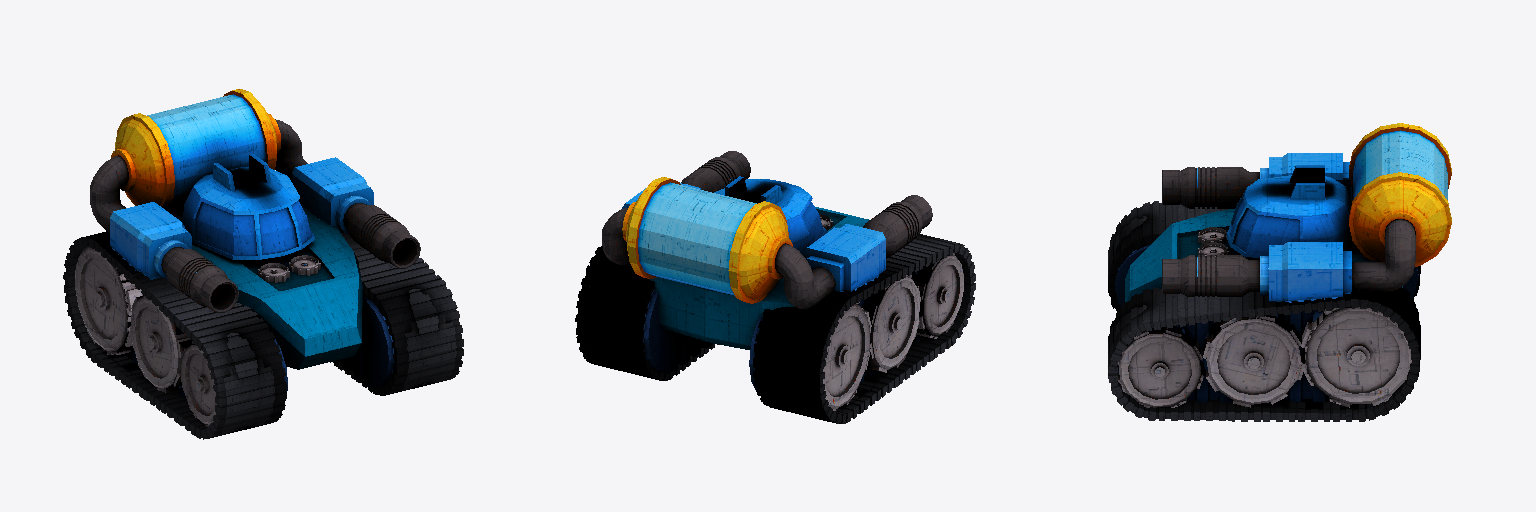
The picture shows the model from 3 angles: view 1: azimuth 30°, elevation 25°; view 2: azimuth 150°, elevation 25°; view 3: azimuth 270°, elevation 25°; orthographic projection.
Visible parts, largest first — view 1: Object001, Box042, Object004, Object003, Object002; view 2: Object001, Box042, Object003, Object004, Object002; view 3: Object001, Box042, Object004, Object003, Object002.
Part boxes in pixels (x1,y1,x2,y2): Object001: (90,89,420,402); Box042: (63,231,463,439); Object004: (75,247,142,354); Object003: (130,296,192,392); Object002: (180,341,216,426); Object001: (602,151,932,390); Box042: (575,234,975,423); Object003: (862,275,920,372); Object004: (823,302,871,410); Object002: (913,253,963,338); Object001: (1115,123,1451,402); Box042: (1108,201,1420,421); Object004: (1301,307,1411,407); Object003: (1203,315,1304,407); Object002: (1118,326,1203,407).
Bounding box in the file's own units: 121 × 100 × 147.
Materials: 2 (2 with a texture image).